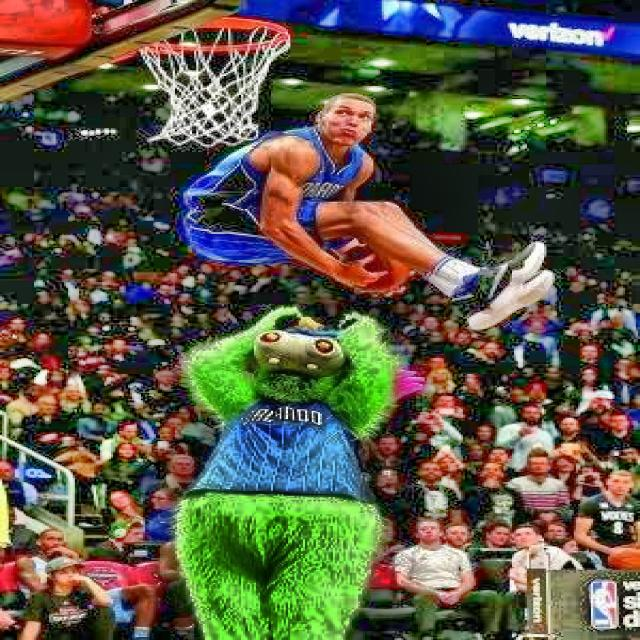rim: (132, 18, 294, 146)
